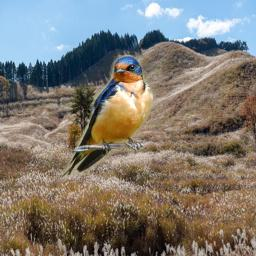Swallow: (61, 55, 155, 178)
